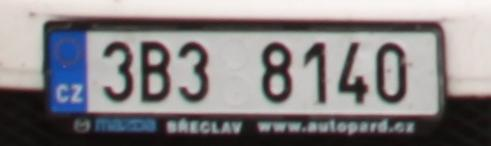0: (376, 43, 407, 103)
1: (304, 42, 326, 103)
3: (101, 41, 133, 102), (180, 42, 209, 102)
4: (338, 42, 368, 105)
8: (260, 42, 292, 102)
B: (140, 42, 170, 103)
